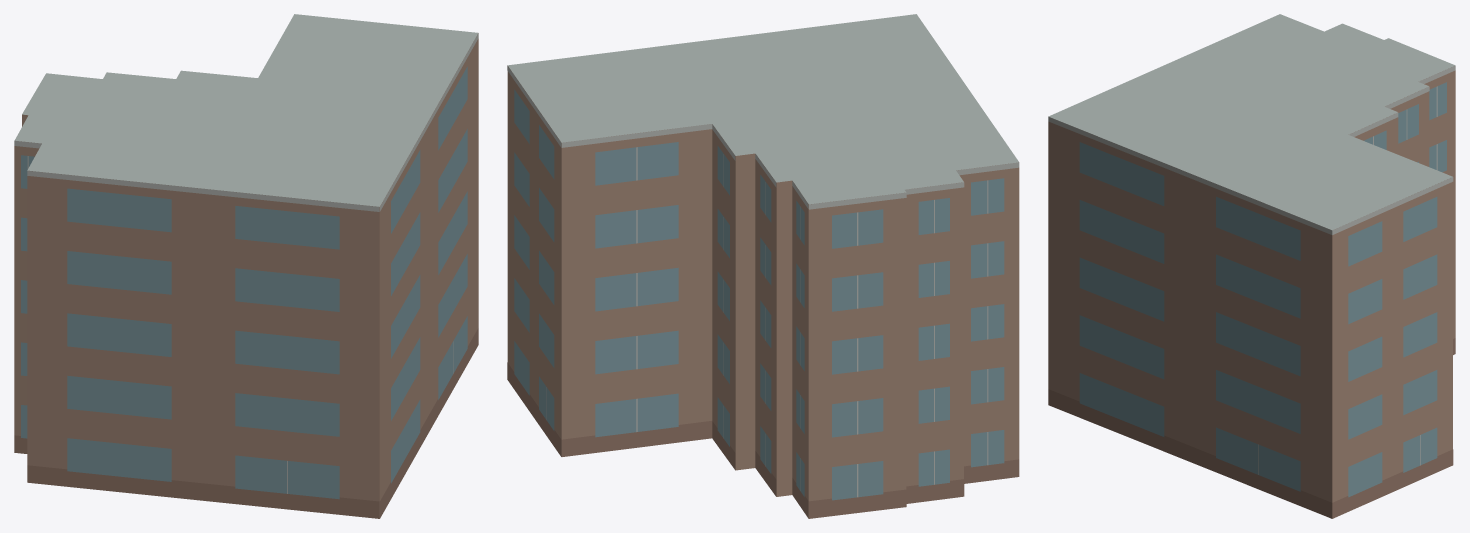
File: survey-upis-32755668.glb
3 renders of one model, left to right at view 1: azimuth 30°, elevation 25°; view 2: azimuth 150°, elevation 25°; view 3: azimuth 270°, elevation 25°, orthographic. The views are drawn at different scales.
Parts seen in each view (by area): view 1: survey-upis-32755668.tmp; view 2: survey-upis-32755668.tmp; view 3: survey-upis-32755668.tmp.
Part boxes in pixels (x1,y1,x2,y2): survey-upis-32755668.tmp: (14,14,478,518); survey-upis-32755668.tmp: (507,14,1019,518); survey-upis-32755668.tmp: (1048,14,1455,518).
Bounding box in the file's own units: 23.33 × 14.5 × 18.56.
